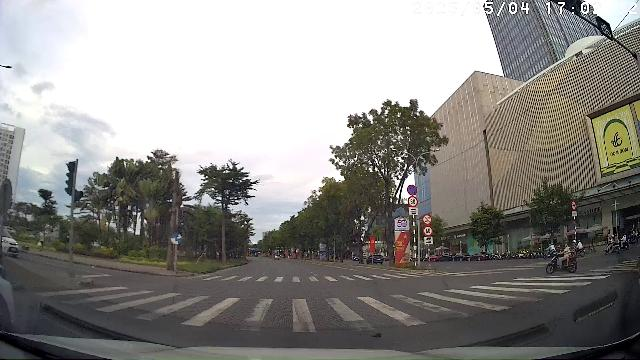127-toc-do-toi-da-60: (423, 225, 433, 236)
127-toc-do-toi-da-80: (407, 196, 418, 207)
130-cam-dung-va-do-xe: (407, 184, 417, 196)
